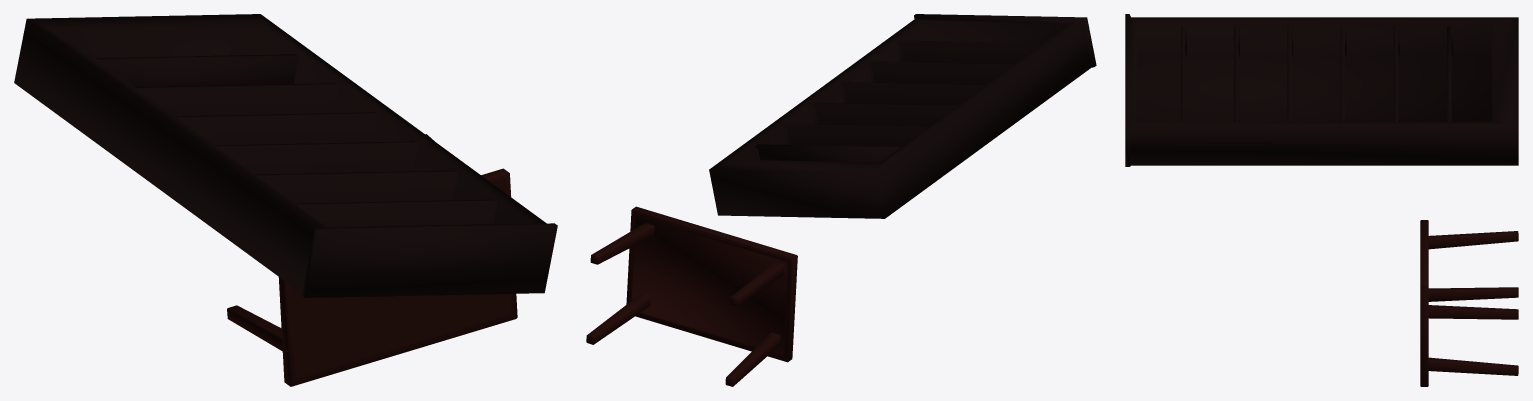
File: scene_0004_diffuse.obj
3 renders of one model, left to right at view 1: azimuth 30°, elevation 25°; view 2: azimuth 150°, elevation 25°; view 3: azimuth 270°, elevation 25°, orthographic. The views are drawn at different scales.
Visible parts, largest first — view 1: diffuse_shelf_02, diffuse_table_01; view 2: diffuse_shelf_02, diffuse_table_01; view 3: diffuse_shelf_02, diffuse_table_01.
Part boxes in pixels (bbox=[...]): diffuse_shelf_02: bbox=[14, 14, 557, 297]; diffuse_table_01: bbox=[227, 134, 517, 386]; diffuse_shelf_02: bbox=[709, 14, 1096, 218]; diffuse_table_01: bbox=[586, 206, 797, 386]; diffuse_shelf_02: bbox=[1125, 14, 1518, 166]; diffuse_table_01: bbox=[1420, 220, 1518, 386].
Bounding box in the file's own units: 161 × 130 × 189.
